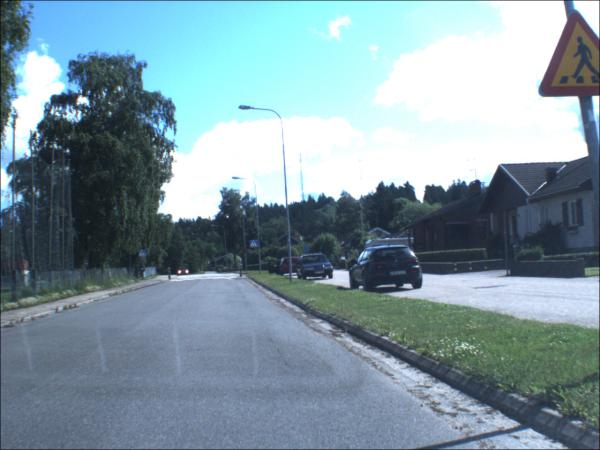NO_PARKING: (244, 249, 250, 256)
PEDESTRIAN_CROSSING: (251, 241, 260, 250), (140, 251, 148, 259)
WARNING: (540, 10, 600, 102)
